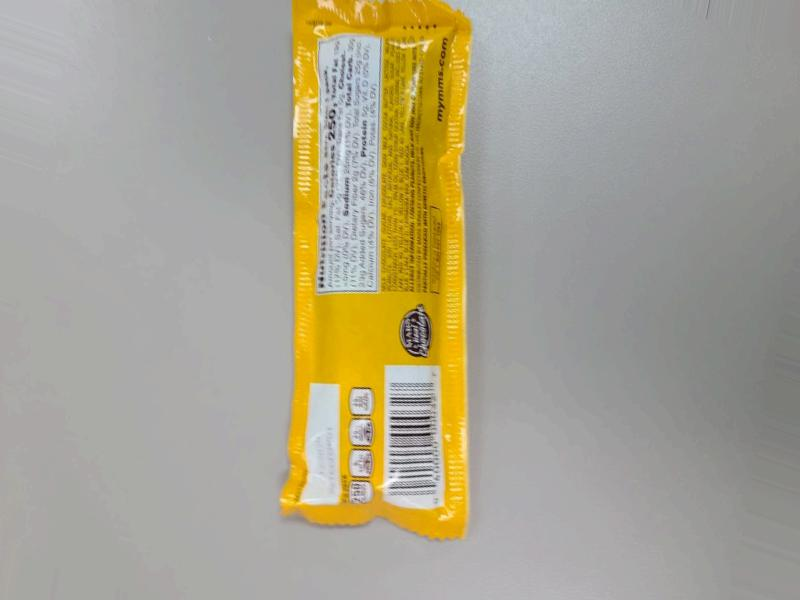m&m: (279, 24, 464, 475)
